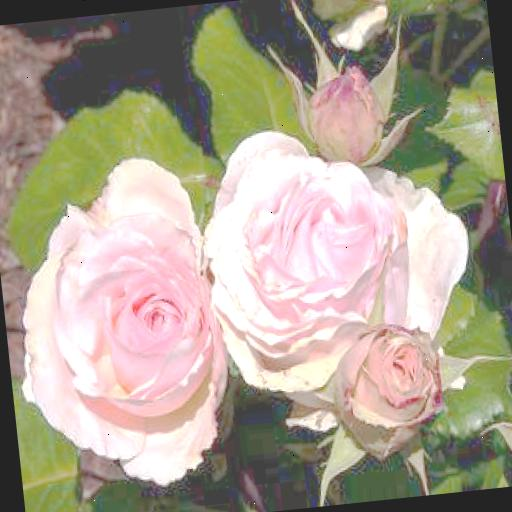rose: (190, 109, 481, 405), (0, 147, 233, 475), (308, 314, 464, 468), (303, 66, 394, 160)
